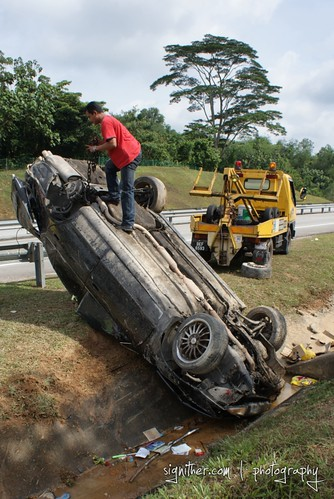car: (10, 157, 287, 419)
sky: (1, 1, 325, 131)
tree: (150, 35, 278, 171)
truck: (188, 168, 298, 273)
vegetation: (1, 83, 323, 189)
